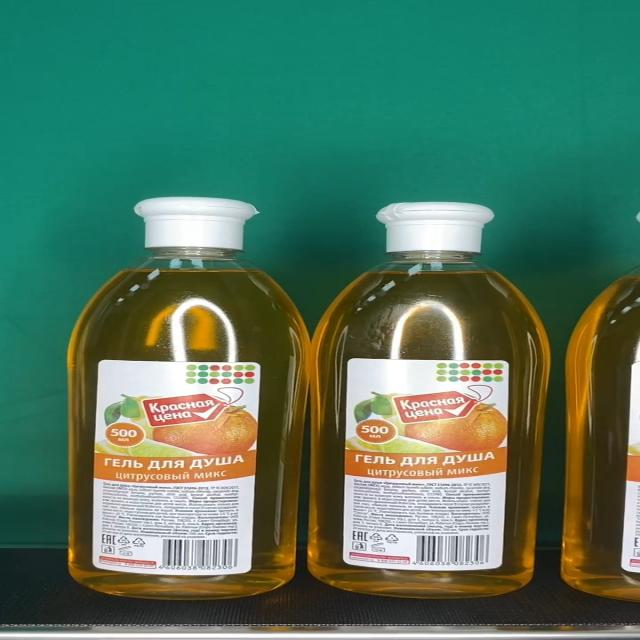Bottle: (308, 203, 553, 600), (68, 198, 310, 598)
Cap: (134, 198, 258, 248), (375, 203, 495, 254)
